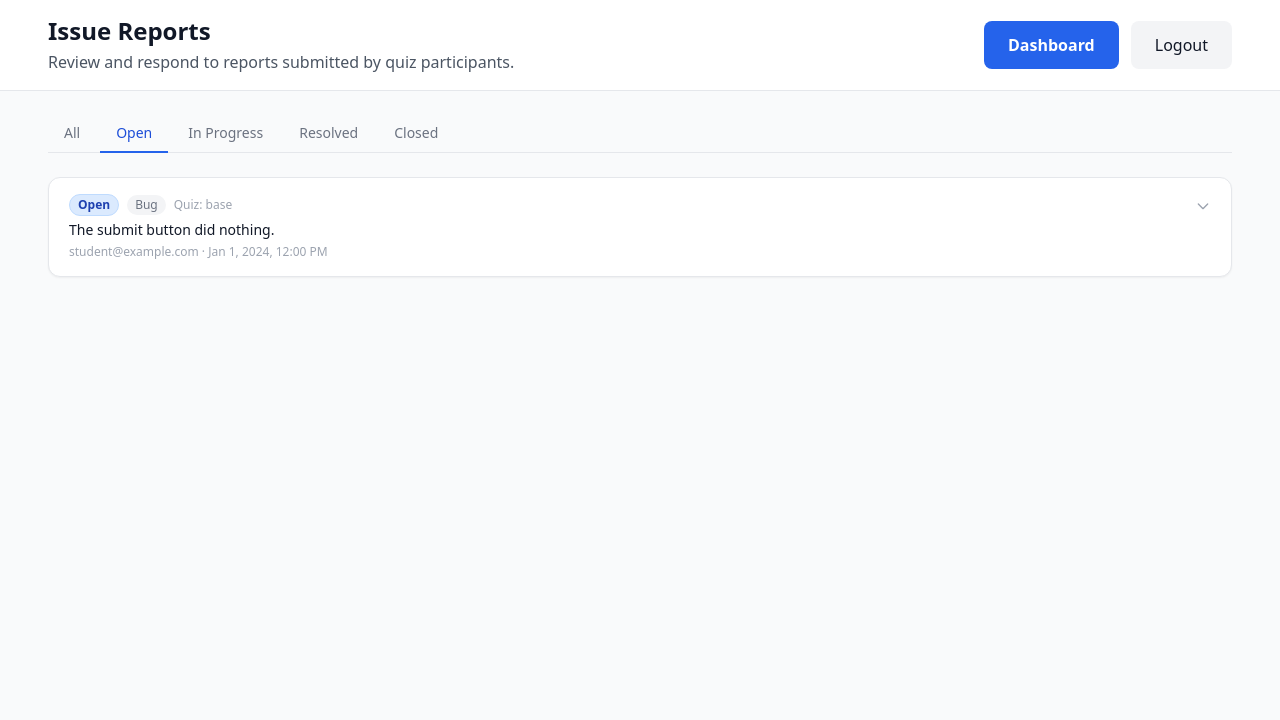
Scenario: ReportsPanelPage › posts a comment and clears the textarea
Click the text "The submit button did nothing." at (172, 230), box [69,220,274,239]
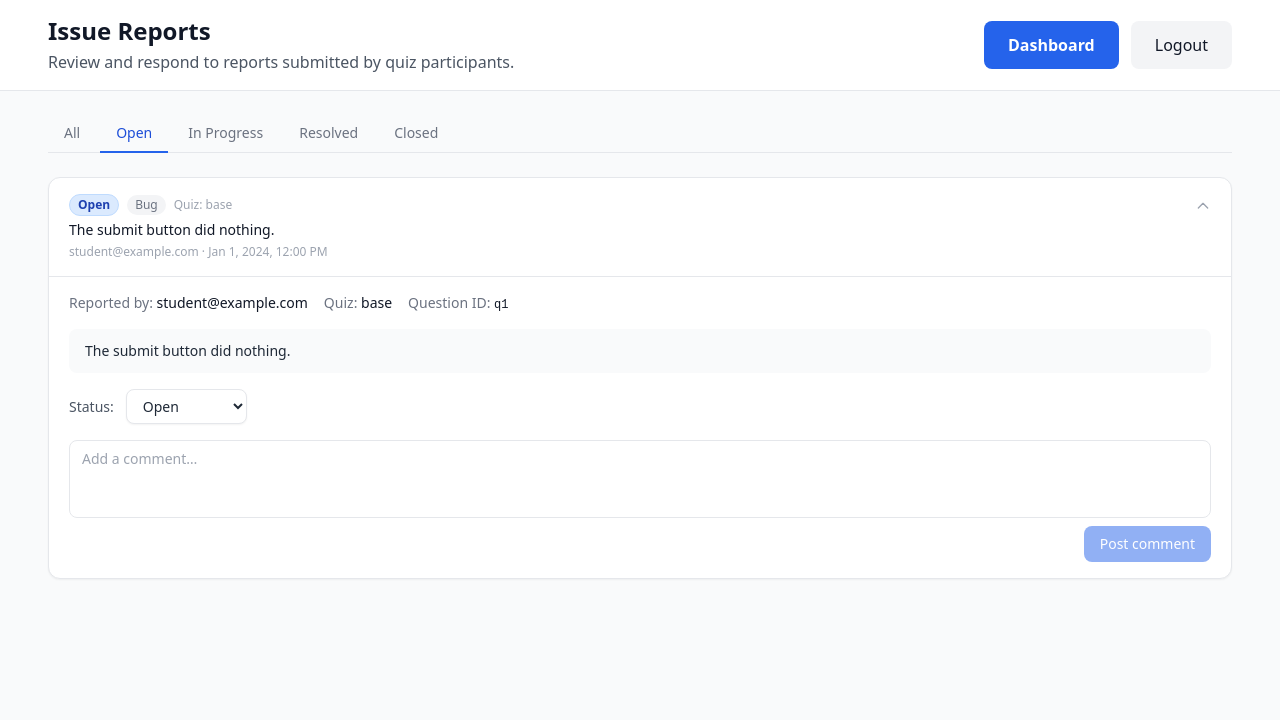
Type "On it." into the text box with placeholder "Add a comment…" at (640, 479), box [69,440,1211,518]
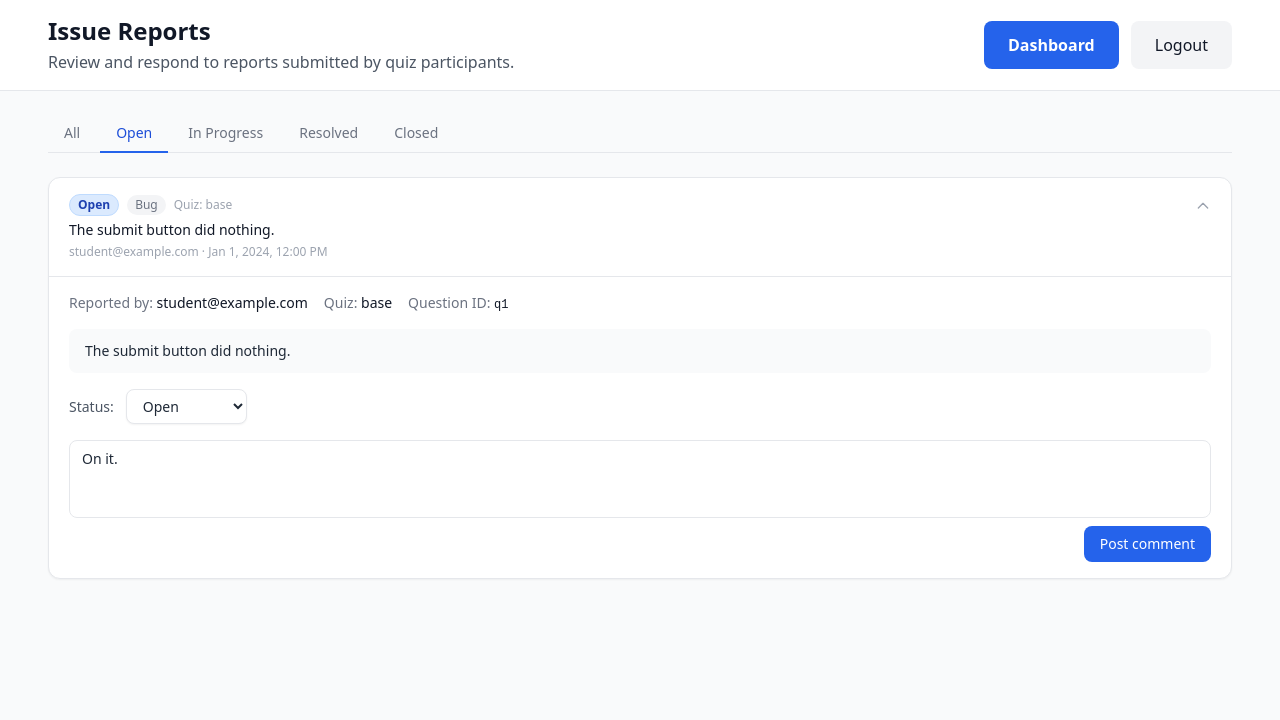
Click the button "Post comment" at (1147, 544), box [1084,526,1211,562]
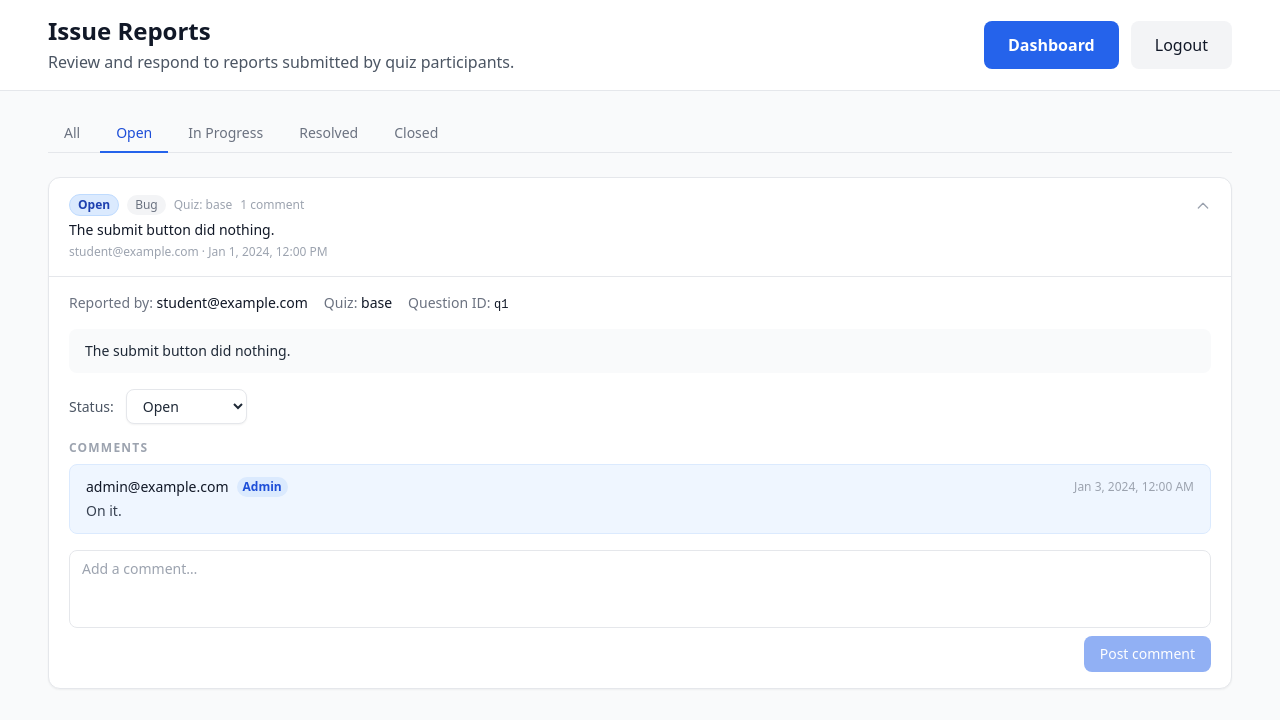
Check: the text "On it." is shown, box [86,501,122,520]
